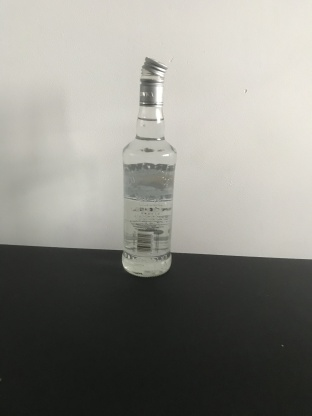nakretka: (137, 53, 169, 107)
